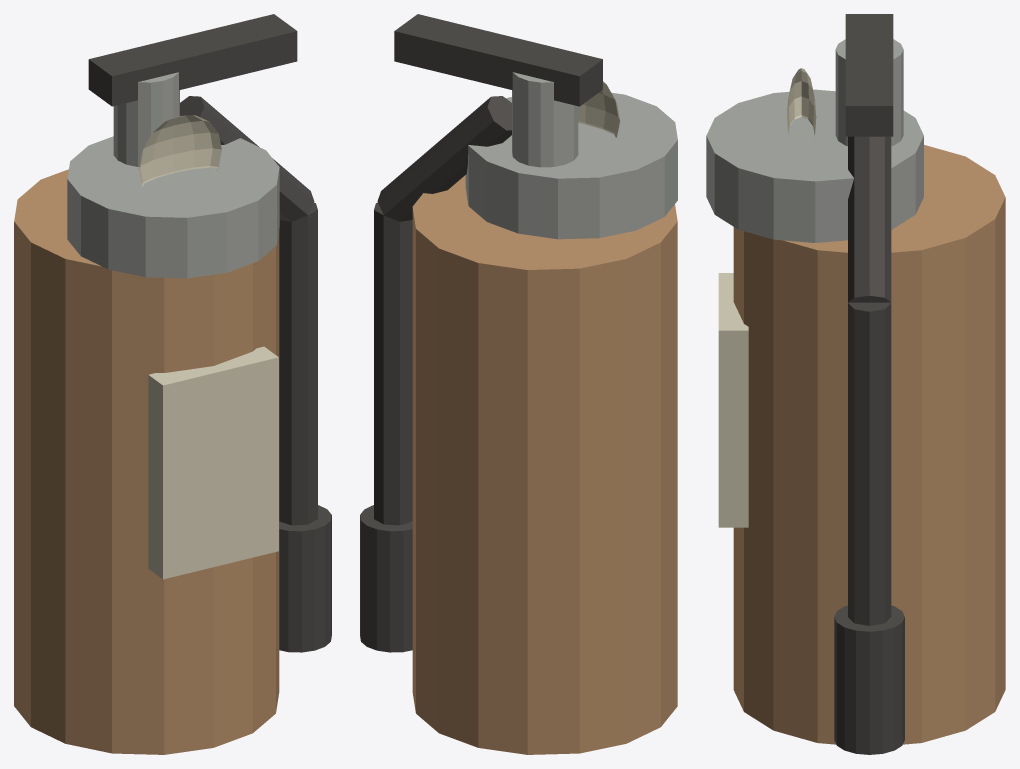
The model's file is signal-house-industrial-fire-extinguisher__206.glb.
3 views of the same model, side by side, from view 1: azimuth 30°, elevation 25°; view 2: azimuth 150°, elevation 25°; view 3: azimuth 270°, elevation 25° (orthographic).
Visible parts, largest first — view 1: accent, dark, paper, metal; view 2: accent, dark, metal, paper; view 3: accent, dark, metal, paper.
Boxes of the visible parts, <box> form: accent: <box>14,169,279,754</box>; dark: <box>88,14,331,652</box>; paper: <box>138,115,278,579</box>; metal: <box>67,72,279,278</box>; accent: <box>412,175,677,754</box>; dark: <box>360,14,602,652</box>; metal: <box>465,72,677,239</box>; paper: <box>578,81,619,137</box>; accent: <box>733,145,1005,744</box>; dark: <box>834,14,904,754</box>; metal: <box>706,39,923,242</box>; paper: <box>718,68,816,527</box>.
Bounding box in the file's own units: 0.256 × 0.53 × 0.22.
